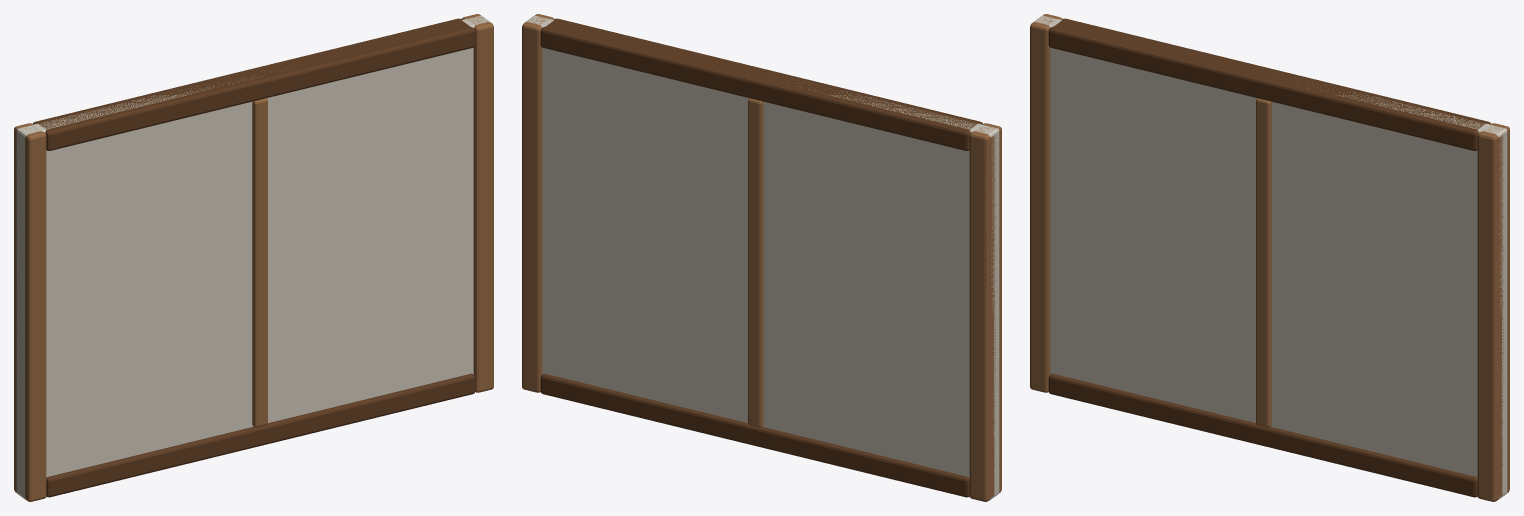
File: wall_full_4x3.glb
3 views of the same model, side by side, from view 1: azimuth 30°, elevation 25°; view 2: azimuth 150°, elevation 25°; view 3: azimuth 330°, elevation 25° (orthographic).
Parts seen in each view (by area): view 1: wall_full_plaster, wall_full_top_rail, wall_full_left_post, wall_full_bottom_rail, wall_full_right_post, wall_full_center_post; view 2: wall_full_plaster, wall_full_top_rail, wall_full_left_post, wall_full_bottom_rail, wall_full_right_post, wall_full_center_post; view 3: wall_full_plaster, wall_full_top_rail, wall_full_right_post, wall_full_bottom_rail, wall_full_left_post, wall_full_center_post.
Part boxes in pixels (bbox=[...]): wall_full_plaster: bbox=[16, 15, 490, 499]; wall_full_top_rail: bbox=[33, 18, 475, 150]; wall_full_left_post: bbox=[14, 123, 46, 501]; wall_full_bottom_rail: bbox=[46, 373, 475, 497]; wall_full_right_post: bbox=[462, 14, 493, 392]; wall_full_center_post: bbox=[252, 98, 267, 427]; wall_full_plaster: bbox=[525, 15, 999, 499]; wall_full_top_rail: bbox=[540, 18, 982, 150]; wall_full_left_post: bbox=[969, 123, 1001, 501]; wall_full_bottom_rail: bbox=[540, 373, 969, 497]; wall_full_right_post: bbox=[522, 14, 553, 392]; wall_full_center_post: bbox=[748, 98, 763, 427]; wall_full_plaster: bbox=[1033, 15, 1507, 499]; wall_full_top_rail: bbox=[1048, 18, 1490, 150]; wall_full_right_post: bbox=[1477, 123, 1509, 501]; wall_full_bottom_rail: bbox=[1048, 373, 1477, 497]; wall_full_left_post: bbox=[1030, 14, 1061, 392]; wall_full_center_post: bbox=[1256, 98, 1271, 427].
Bounding box in the file's own units: 4 × 3 × 0.24.
